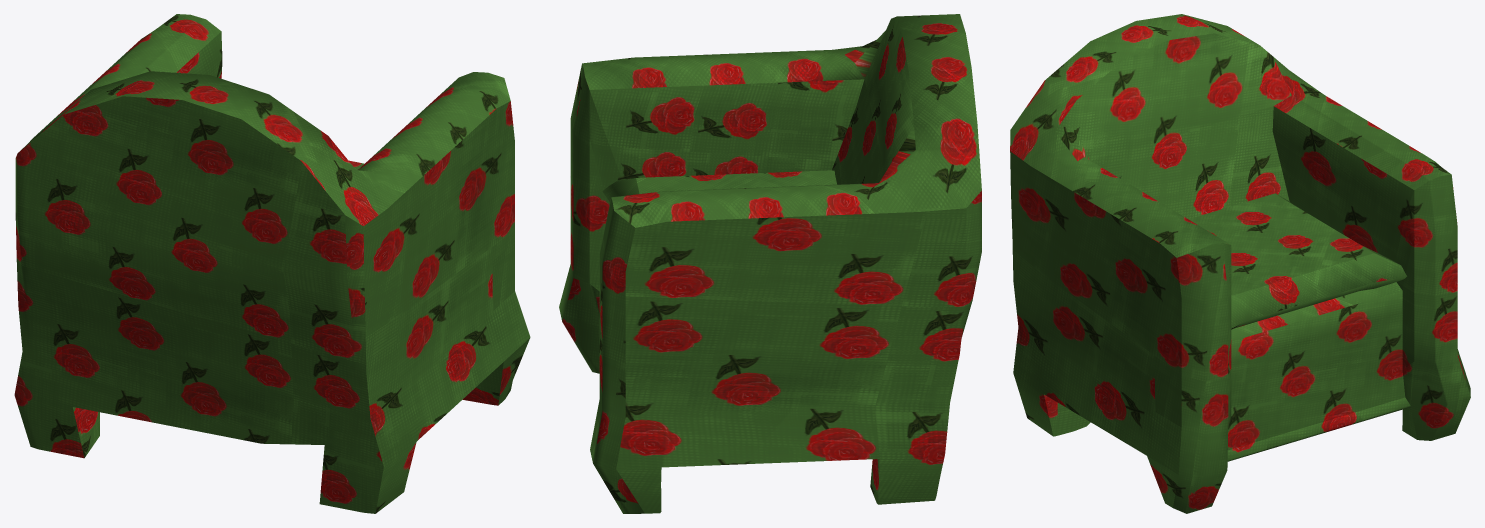
File: Chair.fbx
3 views of the same model, side by side, from view 1: azimuth 30°, elevation 25°; view 2: azimuth 150°, elevation 25°; view 3: azimuth 270°, elevation 25° (orthographic). The views are drawn at different scales.
Visible parts, largest first — view 1: pCube38; view 2: pCube38; view 3: pCube38.
Boxes of the visible parts, box(x1,y1,x2,y2) form: pCube38: box(14, 14, 530, 513); pCube38: box(559, 14, 981, 513); pCube38: box(1010, 14, 1470, 513).
Size of the model in its own units: 2.52 by 2.04 by 2.48.
1 material, 1 textured.
